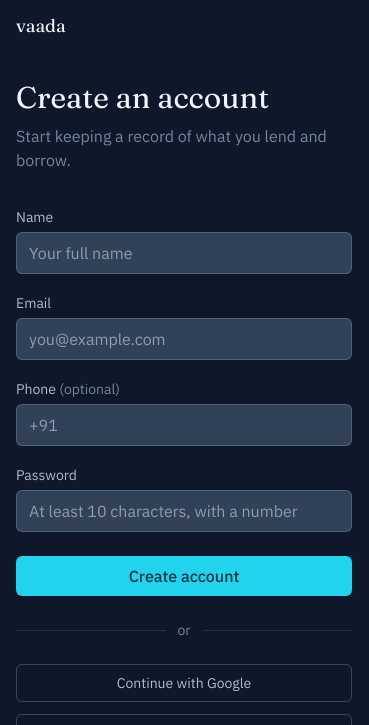
Test: SignupPage › shows the check-your-email state after a successful signup, without a phone number
Type "Priya Sharma" into the field labelled "Name".
click(184, 253); type("Priya Sharma")  # box [16,232,352,274]
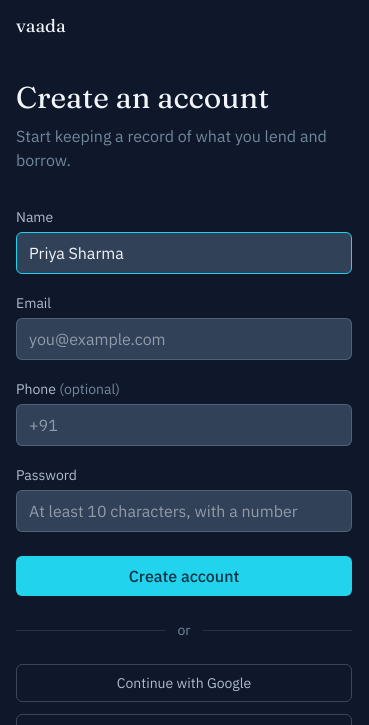
Type "priya@example.com" into the field labelled "Email".
click(184, 339); type("priya@example.com")  # box [16,318,352,360]
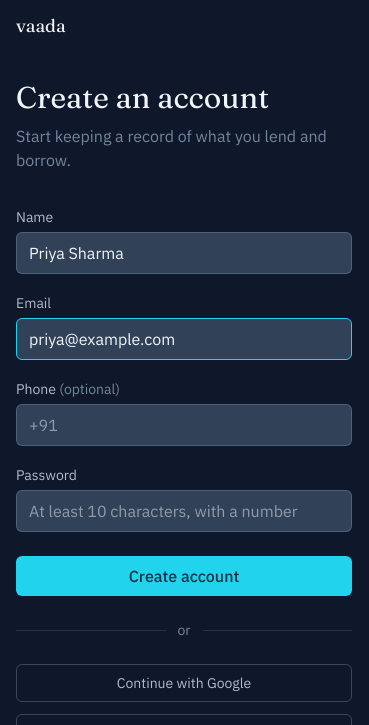
Type "longEnough1" into the password field labelled "Password".
click(184, 511); type("longEnough1")  # box [16,490,352,532]
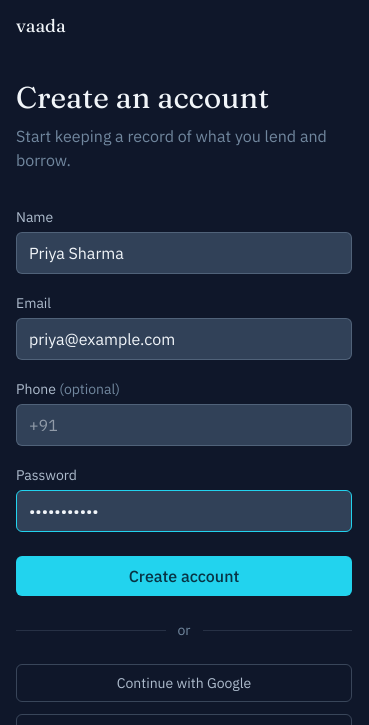
Click the button "Create account".
click(184, 576)  # box [16,556,352,596]
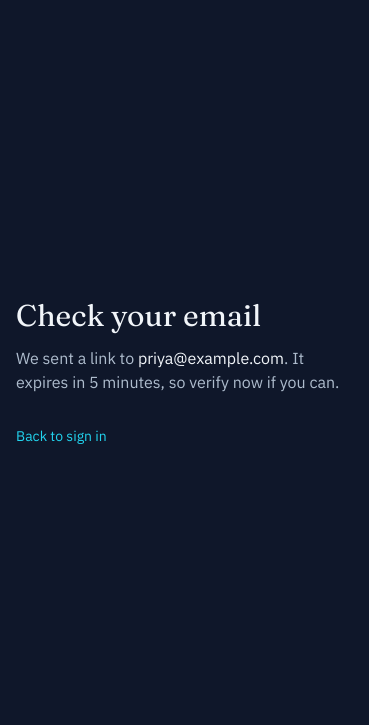
Expected: the heading "Check your email" is shown, [16,297,261,334]
